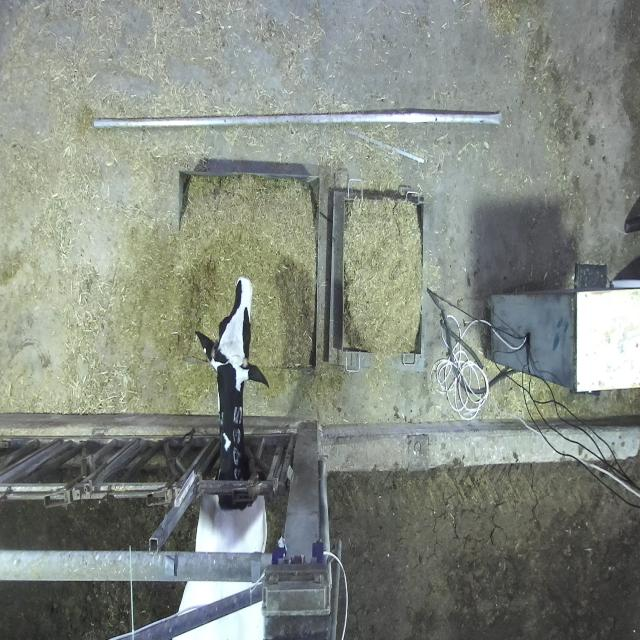cow: (195, 276, 269, 391)
